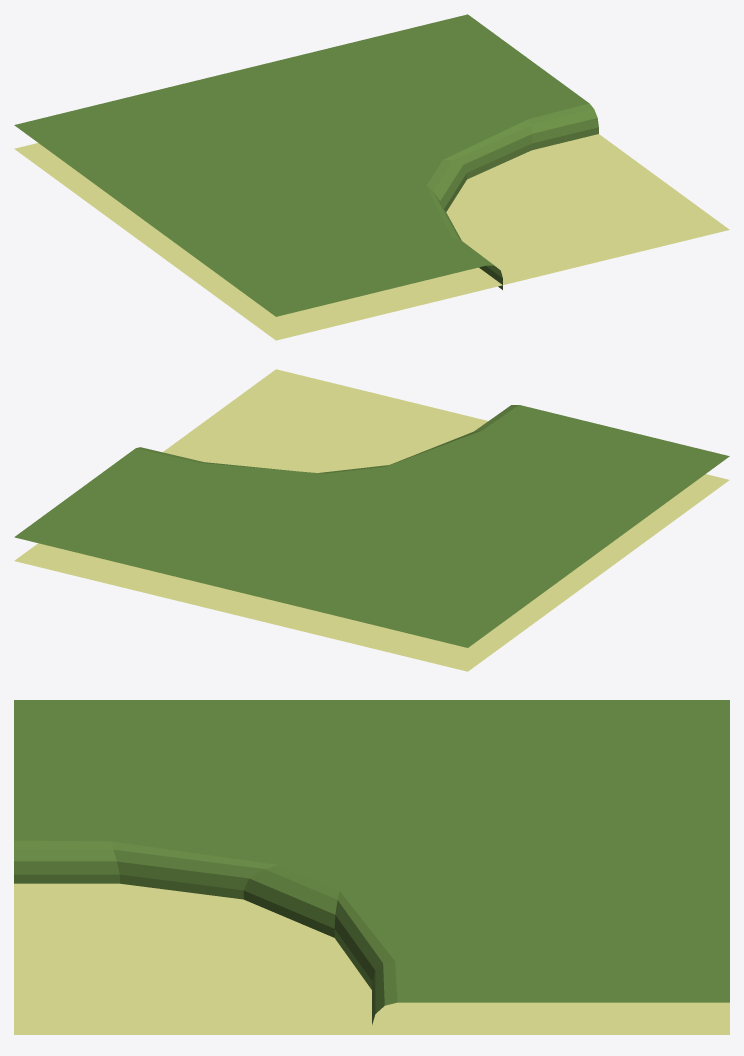
File: grass_sand_inner_corner.fbx
3 renders of one model, top to bottom at view 1: azimuth 30°, elevation 25°; view 2: azimuth 150°, elevation 25°; view 3: azimuth 270°, elevation 25°, orthographic. The views are drawn at different scales.
Parts seen in each view (by area): view 1: Cube.060; view 2: Cube.060; view 3: Cube.060.
Boxes of the visible parts, box(x1,y1,x2,y2) form: Cube.060: box(14, 14, 729, 340); Cube.060: box(14, 369, 729, 671); Cube.060: box(14, 700, 729, 1034).
Bounding box in the file's own units: 200 × 200 × 12.12.
